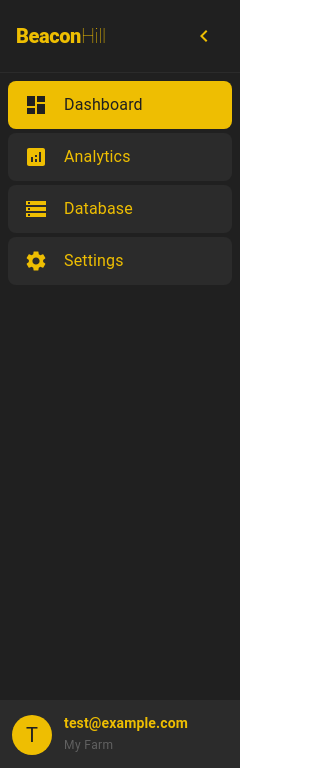
Test case: Sidebar in App (test mode) › expand/collapse toggles sidebar content
Expected: the text "Beacon" is shown, x1=16 y1=24 x2=81 y2=48
Step 1. Click the button named "Collapse sidebar" → (204, 36), box x1=184 y1=16 x2=224 y2=56
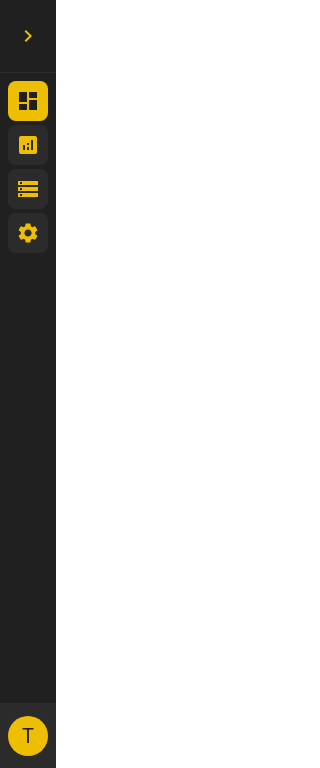
Expected: the text "Beacon" is gone
Step 2. Click the button named "Expand sidebar" → (28, 36), box x1=8 y1=16 x2=48 y2=56
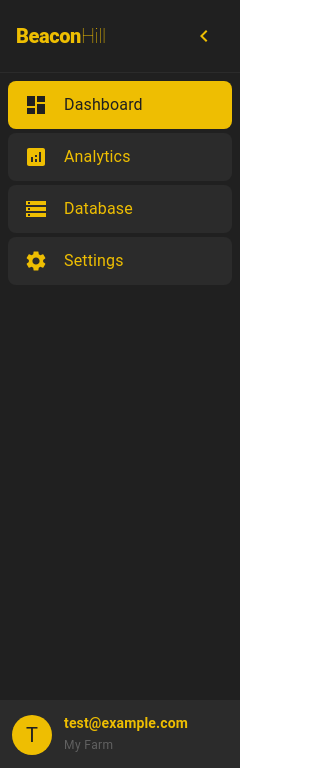
Expected: the text "Beacon" is shown, x1=16 y1=24 x2=81 y2=48
